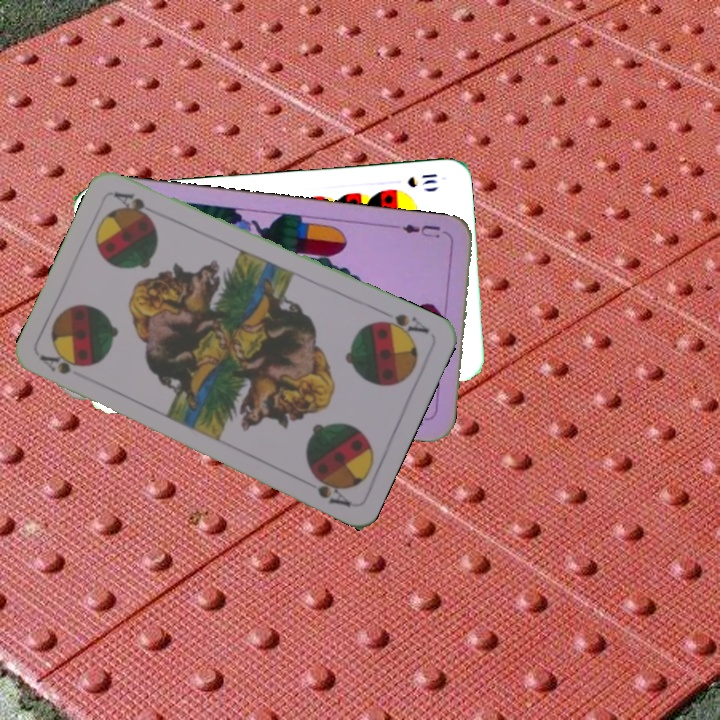EU: (398, 220, 443, 241)
S10: (403, 170, 440, 190)
SA: (373, 306, 431, 341), (36, 351, 81, 377)
